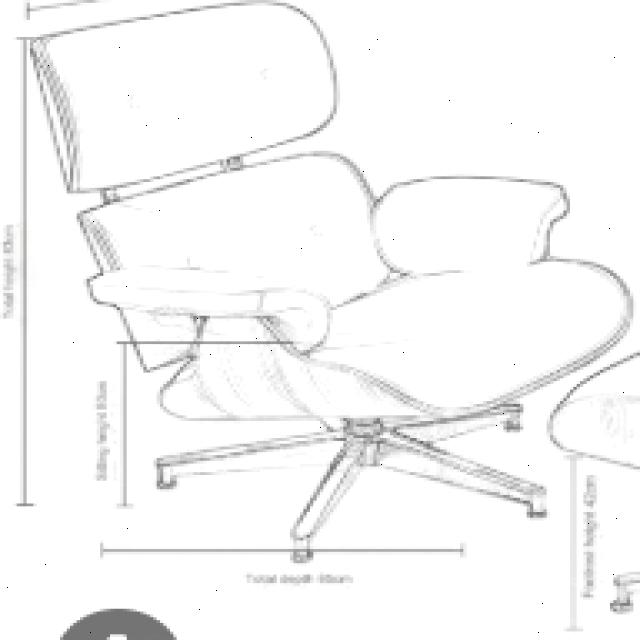Backrest: (68, 153, 399, 304)
Eames_base: (149, 424, 562, 550)
Eames_lounge: (82, 262, 341, 374), (370, 173, 572, 283)
Headrest: (19, 0, 344, 196)
Seat: (158, 258, 636, 419)
